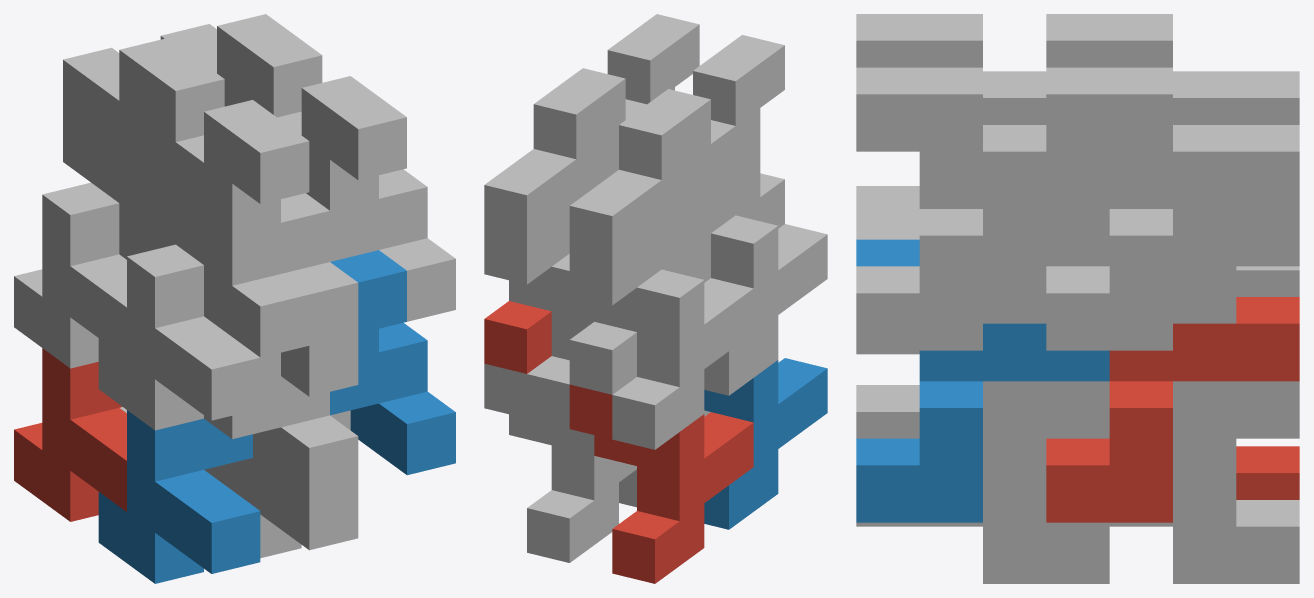
Rendered from tiling.obj.
3 views of the same model, side by side, from view 1: azimuth 30°, elevation 25°; view 2: azimuth 150°, elevation 25°; view 3: azimuth 270°, elevation 25° (orthographic). The views are drawn at different scales.
Parts seen in each view (by area): view 1: copy_2_domain_4, copy_1_domain_4, copy_2_domain_8, copy_1_domain_2, copy_1_domain_3, copy_2_domain_2, copy_2_domain_6, copy_2_domain_3, copy_1_domain_1, copy_2_domain_7, copy_1_domain_6, copy_1_domain_8 (+1 smaller); view 2: copy_1_domain_3, copy_1_domain_1, copy_2_domain_3, copy_1_domain_4, copy_2_domain_7, copy_1_domain_5, copy_2_domain_4, copy_1_domain_7, copy_1_domain_2, copy_2_domain_8, copy_2_domain_1, copy_2_domain_5 (+2 smaller); view 3: copy_2_domain_7, copy_2_domain_8, copy_2_domain_5, copy_2_domain_6, copy_1_domain_5, copy_1_domain_6, copy_2_domain_3, copy_2_domain_4, copy_1_domain_8, copy_1_domain_7, copy_2_domain_2, copy_1_domain_1 (+1 smaller).
Part boxes in pixels (box(x1,y1,x2,y2)): copy_2_domain_4: box(147, 100, 358, 345); copy_1_domain_4: box(98, 173, 260, 430); copy_2_domain_8: box(245, 76, 455, 321); copy_1_domain_2: box(98, 410, 260, 583); copy_1_domain_3: box(14, 111, 126, 368); copy_2_domain_2: box(204, 265, 358, 498); copy_2_domain_6: box(330, 250, 455, 475); copy_2_domain_3: box(63, 38, 224, 223); copy_1_domain_1: box(14, 348, 126, 521); copy_2_domain_7: box(160, 14, 322, 117); copy_1_domain_6: box(224, 410, 358, 558); copy_1_domain_8: box(281, 334, 358, 396); copy_1_domain_3: box(569, 225, 753, 449); copy_1_domain_1: box(569, 384, 753, 583); copy_2_domain_3: box(569, 89, 710, 268); copy_1_domain_4: box(686, 171, 827, 395); copy_2_domain_7: box(484, 68, 625, 239); copy_1_domain_5: box(484, 363, 636, 562); copy_2_domain_4: box(686, 35, 784, 214); copy_1_domain_7: box(484, 209, 594, 428); copy_1_domain_2: box(704, 358, 827, 529); copy_2_domain_8: box(601, 14, 699, 182); copy_2_domain_1: box(569, 233, 710, 394); copy_2_domain_5: box(484, 301, 551, 373); copy_2_domain_7: box(1046, 67, 1299, 350); copy_2_domain_8: box(856, 67, 1109, 350); copy_2_domain_5: box(1046, 297, 1299, 522); copy_2_domain_6: box(856, 239, 1109, 522); copy_1_domain_5: box(1046, 381, 1299, 583); copy_1_domain_6: box(856, 381, 1109, 583); copy_2_domain_3: box(1046, 14, 1299, 124); copy_2_domain_4: box(856, 14, 1046, 239); copy_1_domain_8: box(856, 209, 1109, 354); copy_1_domain_7: box(1173, 209, 1299, 323); copy_2_domain_2: box(856, 186, 919, 438); copy_1_domain_1: box(1236, 446, 1299, 499).
Bounding box in the file's own units: 5 × 9 × 7.
